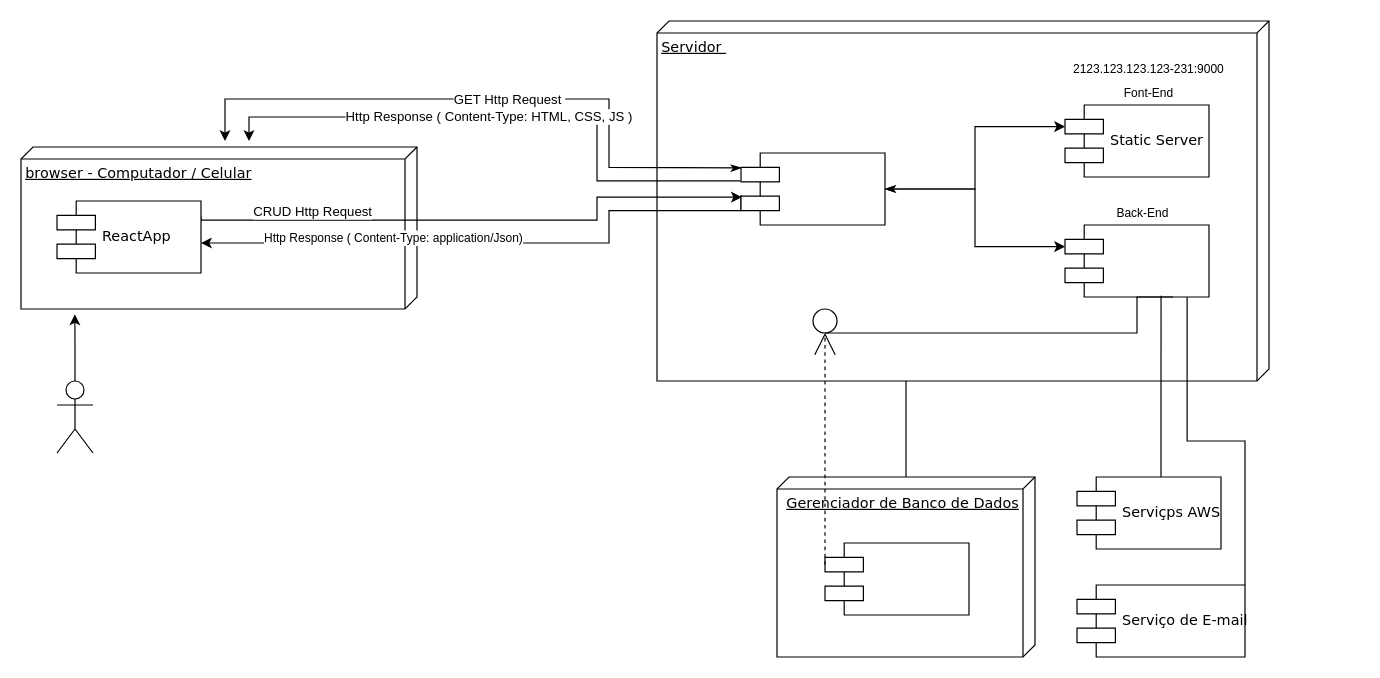
The diagram is 1380 pixels wide and 678 high, and some of its shapes have lost their labels. Each missing label, with the centre of its shape:
"Pessoa" goes at (74,416).
"PostGreSql" goes at (896,578).
"Proxy Server" goes at (812,188).
"Servidor Nodejs" goes at (1136,260).
